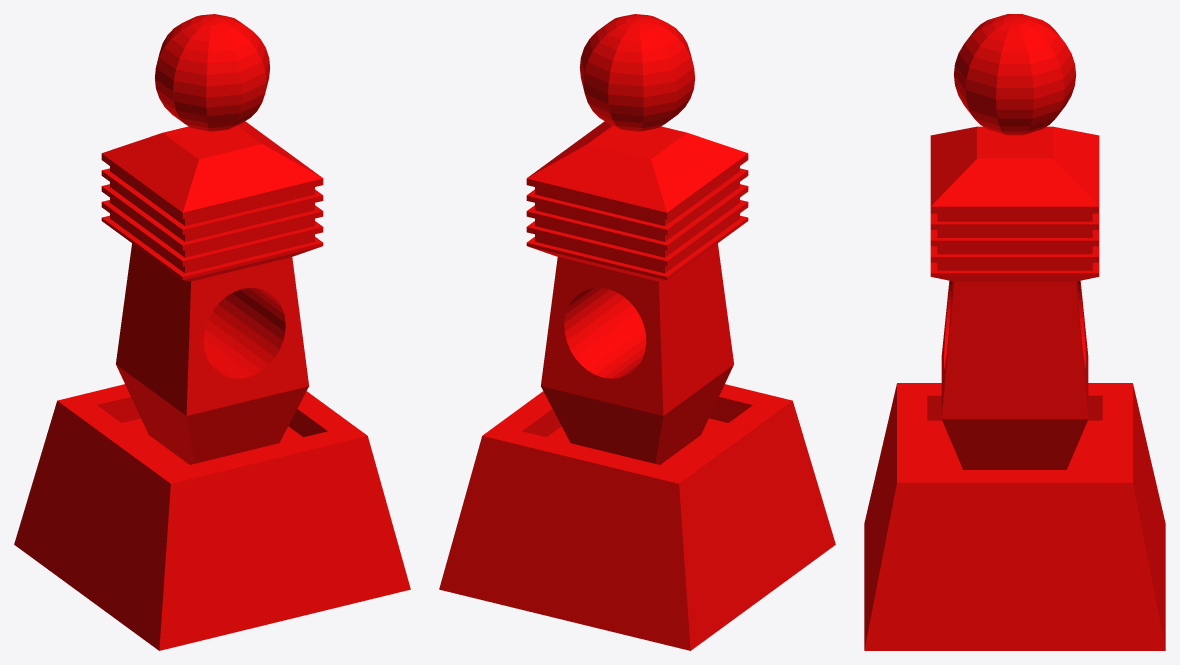
The model's file is statua-1.dae.
The picture shows the model from 3 angles, left to right: view 1: azimuth 30°, elevation 25°; view 2: azimuth 150°, elevation 25°; view 3: azimuth 270°, elevation 25°; orthographic projection. The views are drawn at different scales.
Parts seen in each view (by area): view 1: Cube; view 2: Cube; view 3: Cube.
Part boxes in pixels (bbox=[...]): Cube: bbox=[14, 14, 410, 650]; Cube: bbox=[439, 14, 835, 650]; Cube: bbox=[864, 14, 1165, 650].
Size of the model in its own units: 2 by 2 by 4.16.
